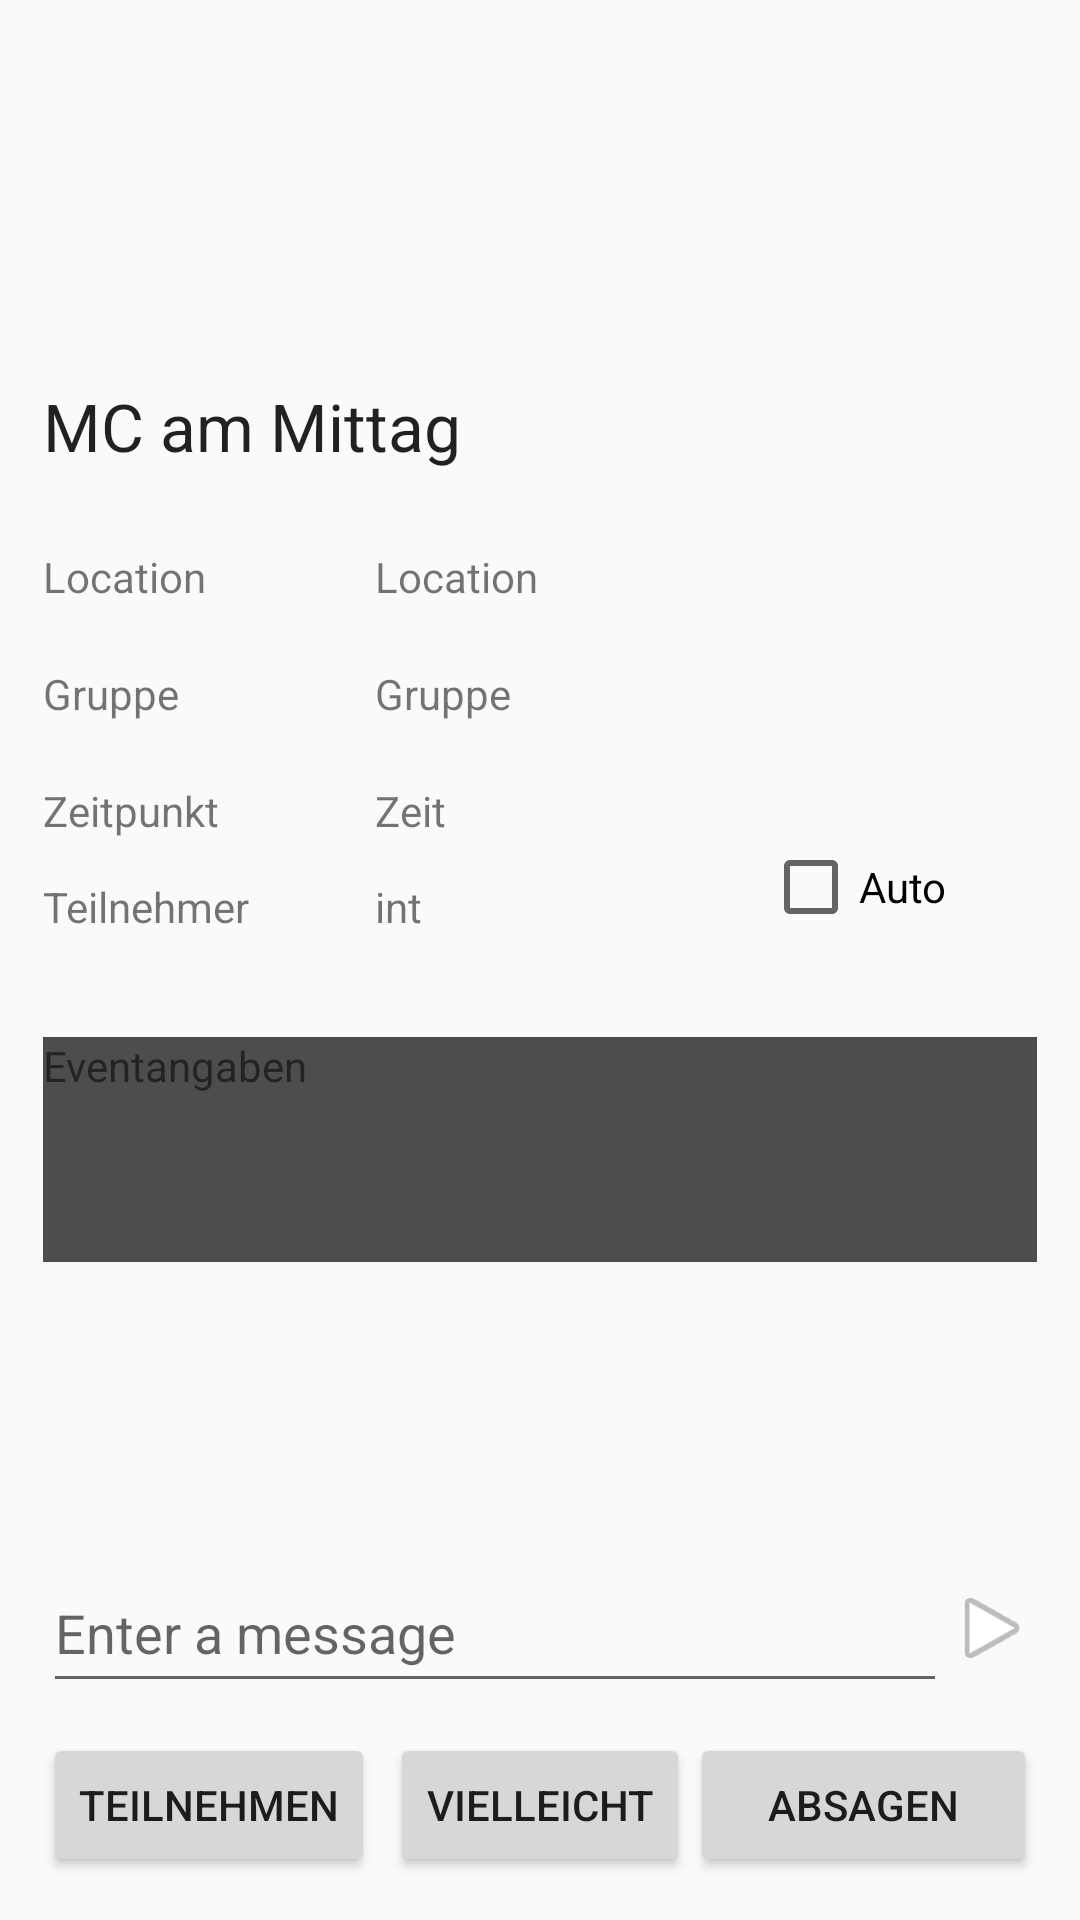

Screen size 1080*1920. Icon name, then its box in pixels as (x1, y1, x2, y2):
play: (965, 1598, 1019, 1658)
